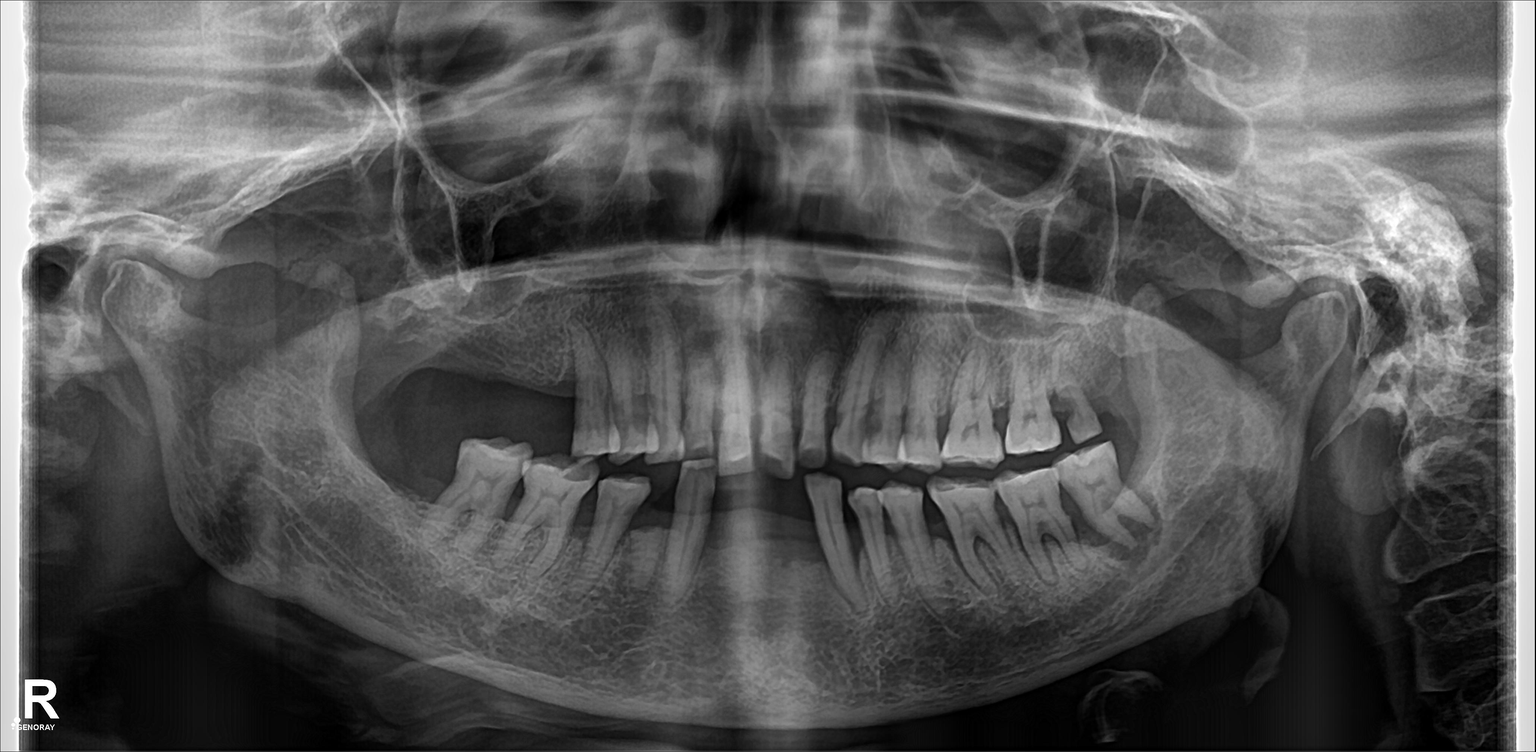Dental Caries: (1050, 391, 1074, 420)
Impacted Third Molar: (1061, 456, 1149, 547)
Missing Tooth: (516, 305, 571, 419), (728, 488, 775, 611), (425, 315, 471, 414), (641, 480, 676, 600), (475, 315, 518, 411), (358, 428, 401, 523), (782, 501, 818, 614), (404, 426, 442, 533), (385, 322, 426, 416)
